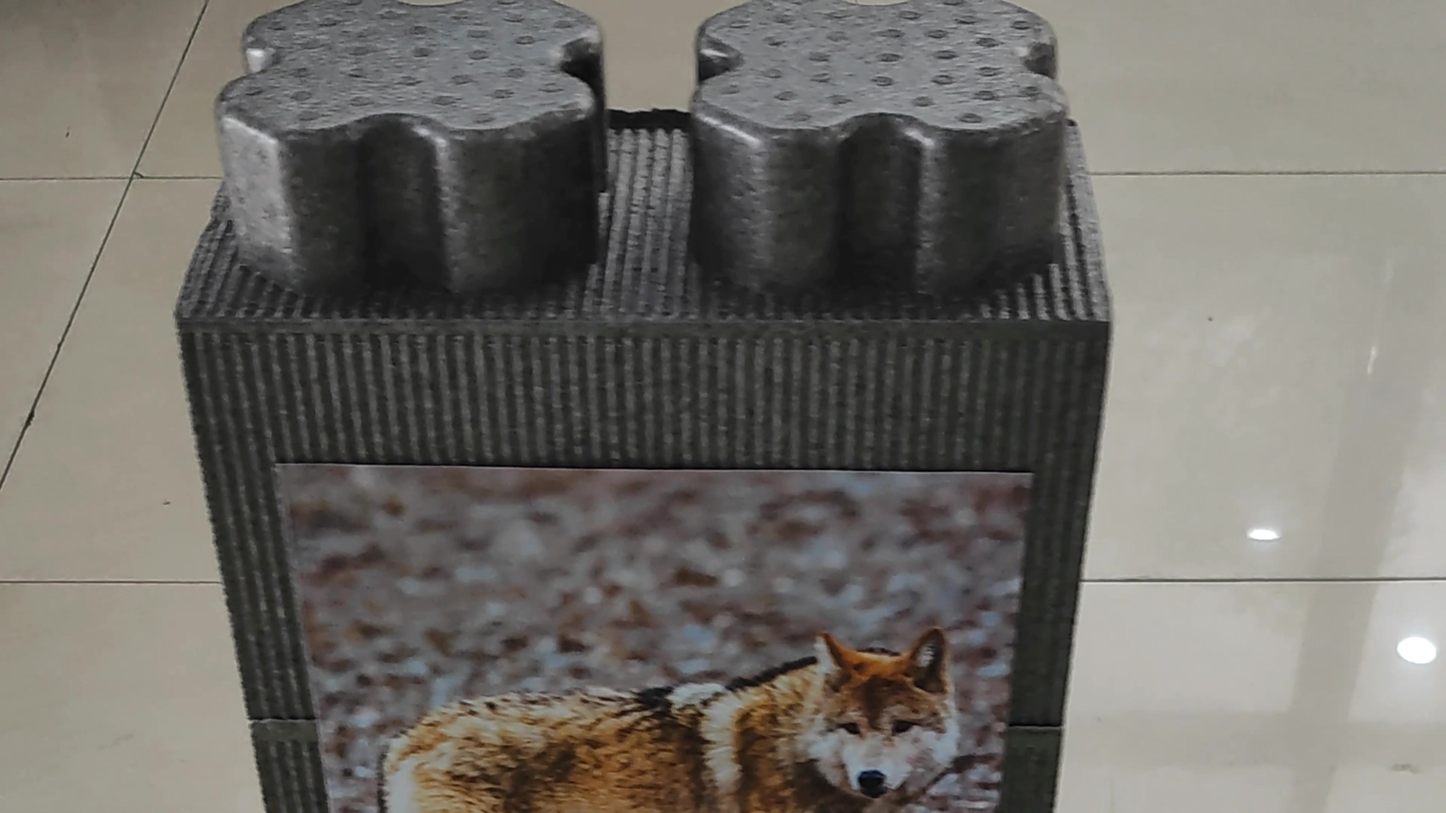wolf: (351, 601, 959, 813)
